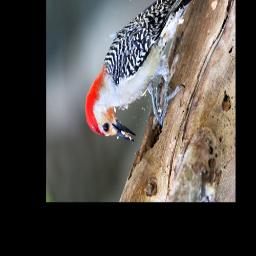Woodpecker: (86, 0, 218, 141)
